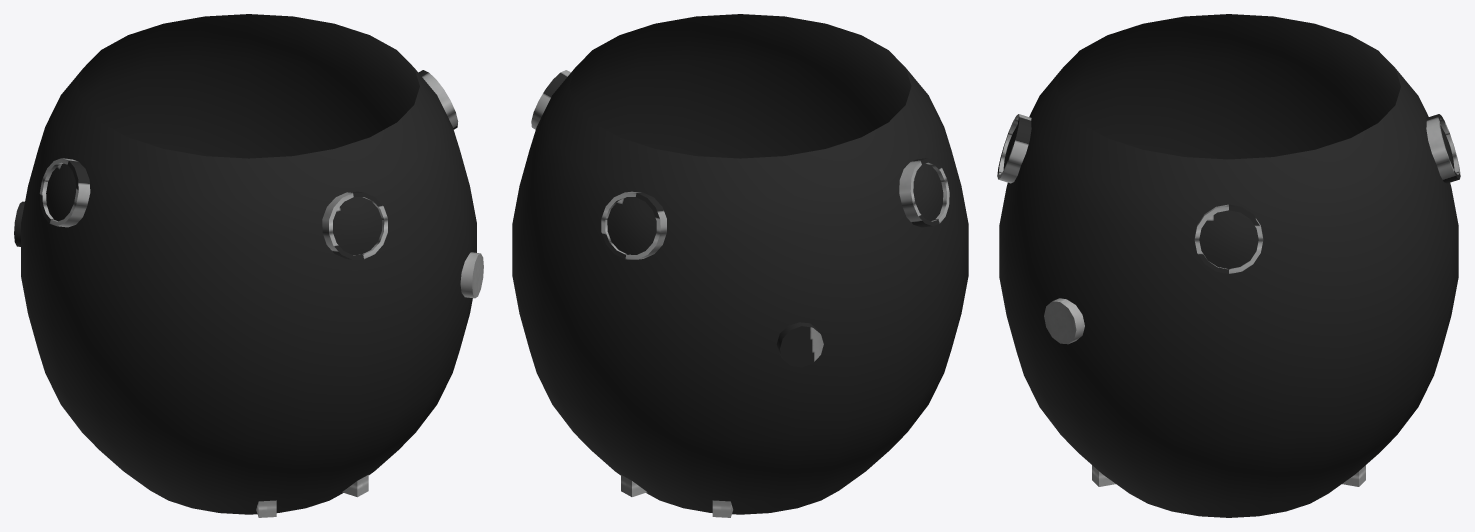
File: tantares_orbital_module_s1_1.obj
The picture shows the model from 3 angles, left to right: view 1: azimuth 30°, elevation 25°; view 2: azimuth 150°, elevation 25°; view 3: azimuth 270°, elevation 25°; orthographic projection.
Visible parts, largest first — view 1: mesh, windows; view 2: mesh, windows; view 3: mesh, windows.
Boxes of the visible parts, x1,y1,x2,y2 form: mesh: (14,14,483,517); windows: (46,163,381,254); mesh: (512,14,968,517); windows: (607,163,943,254); mesh: (997,14,1460,517); windows: (1003,125,1454,268).
Bounding box in the file's own units: 1.26 × 1.15 × 1.26.
